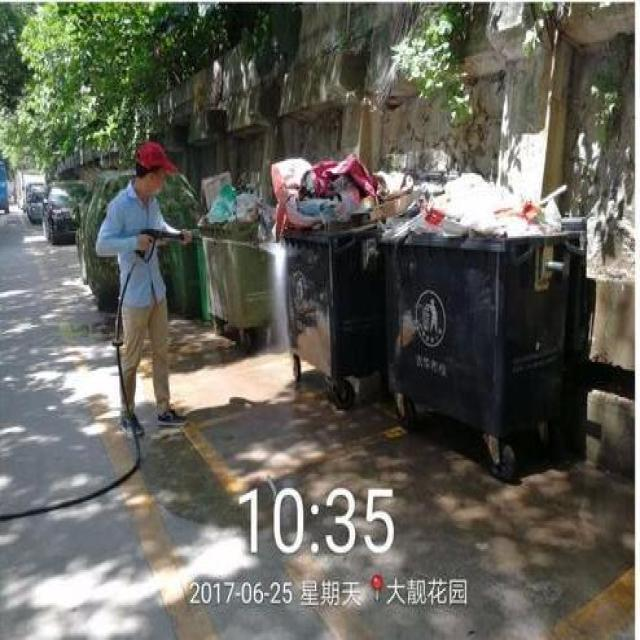overflow: (382, 171, 586, 434), (270, 156, 410, 374), (197, 186, 275, 326)
